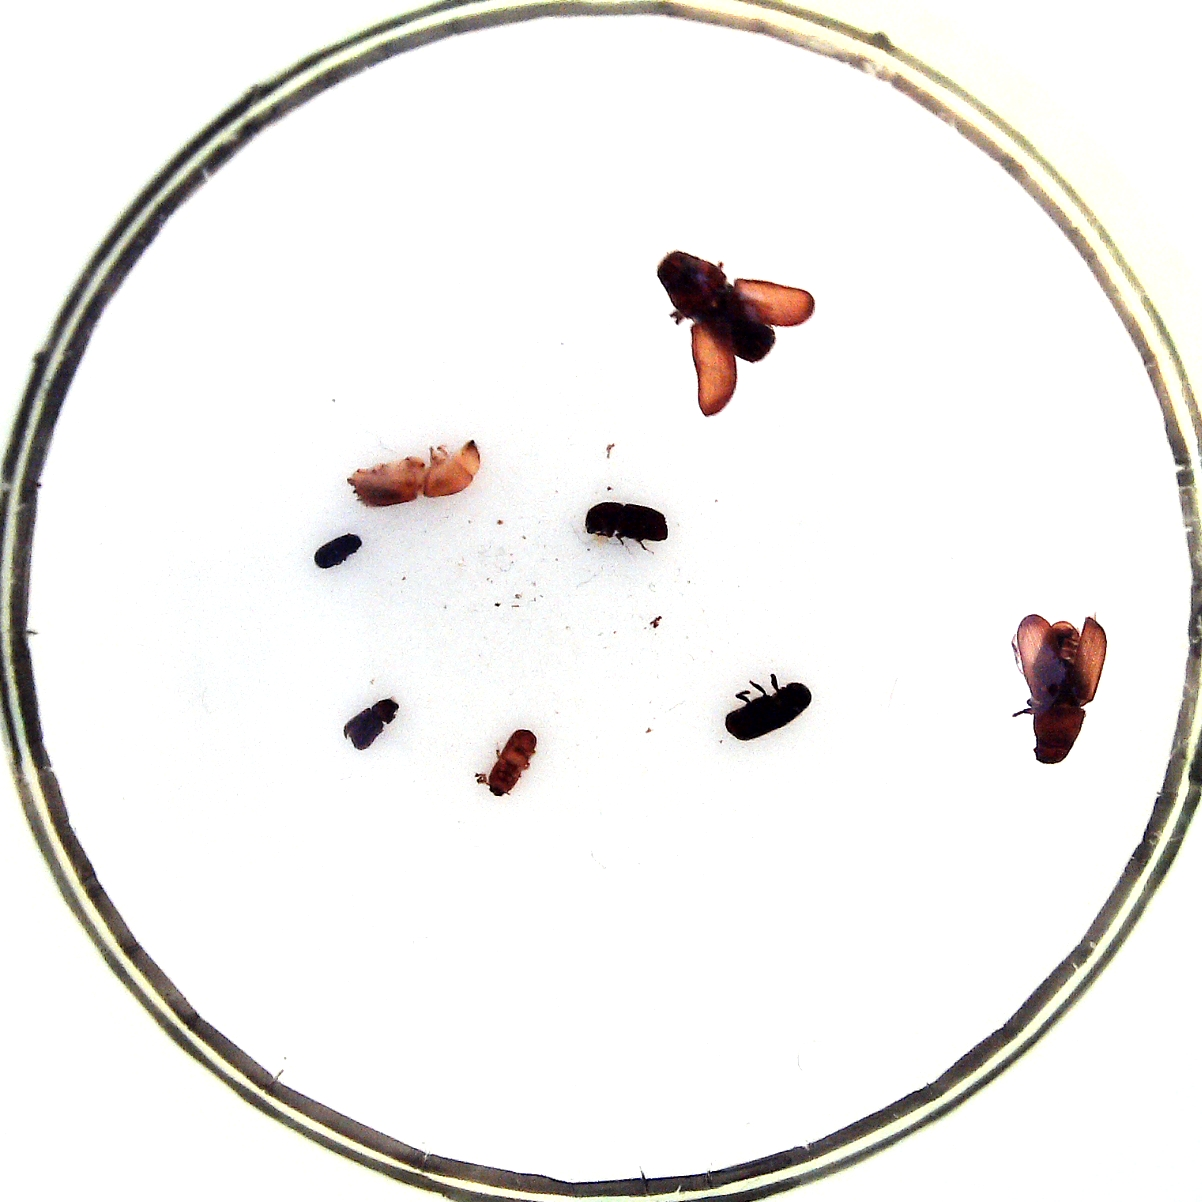Boerner: (346, 438, 481, 510)
Leconte: (657, 251, 776, 363), (1028, 620, 1086, 764)
acuminatus: (343, 699, 398, 748), (314, 532, 362, 569)
armandi: (725, 682, 812, 741)
coleoptera: (489, 729, 536, 796)
linnaeus: (584, 501, 669, 542)
